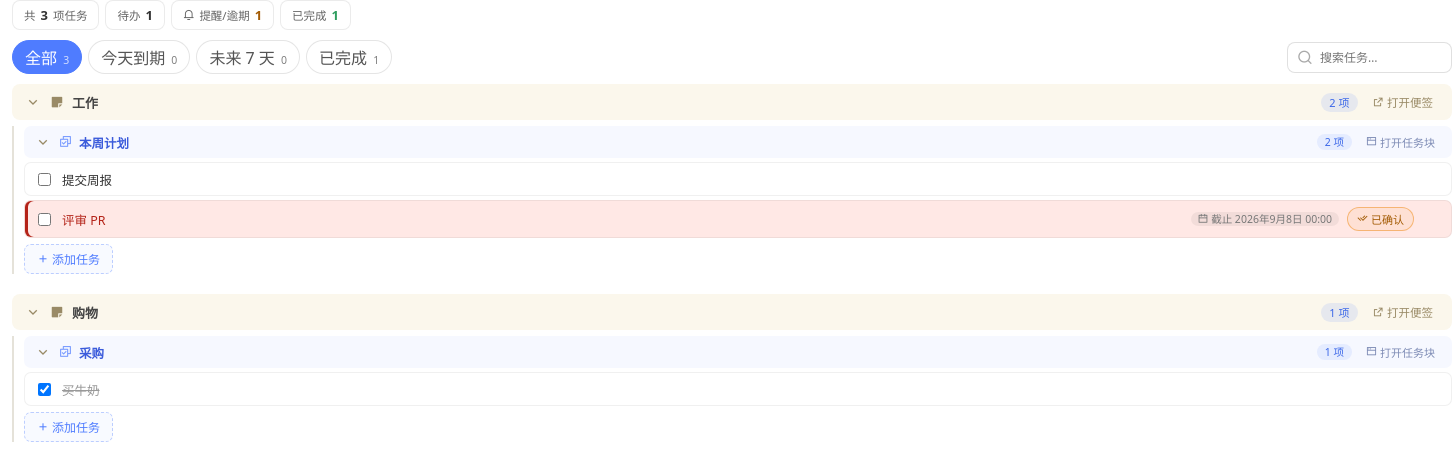
TodoOverviewView › 点击「已完成」chips 只显示已完成任务
The image size is (1452, 459).
Click the button "已完成 1": point(349, 57) [306,40,392,74]
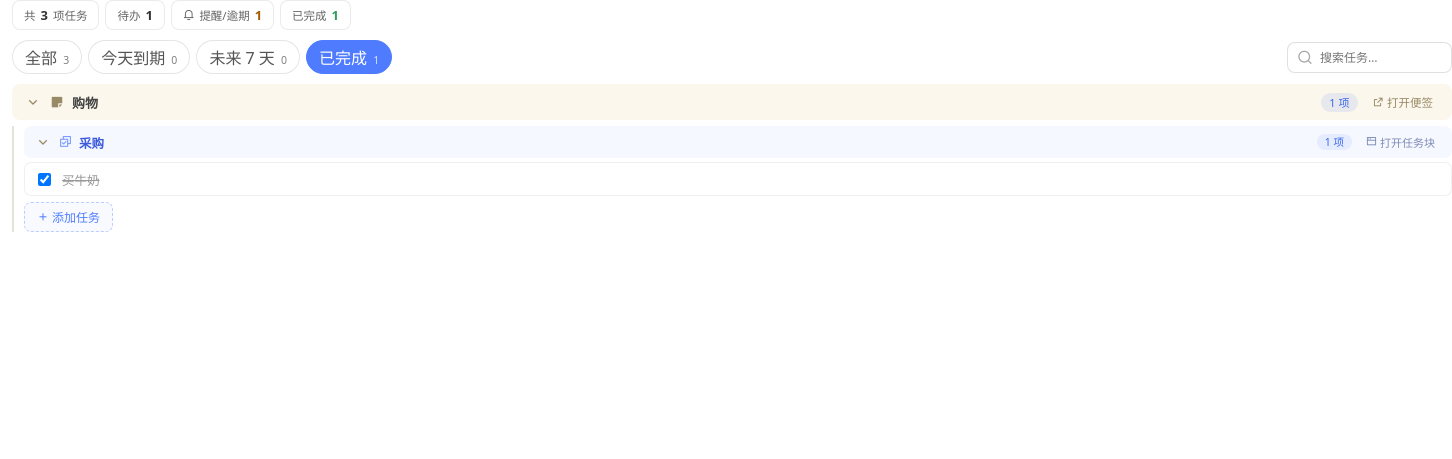
Check: the text "买牛奶" is shown, box [62,172,100,188]
Check: the number of elements with class "ov-row" is 1, box [24,162,1451,196]
Check: the text "提交周报" is gone
